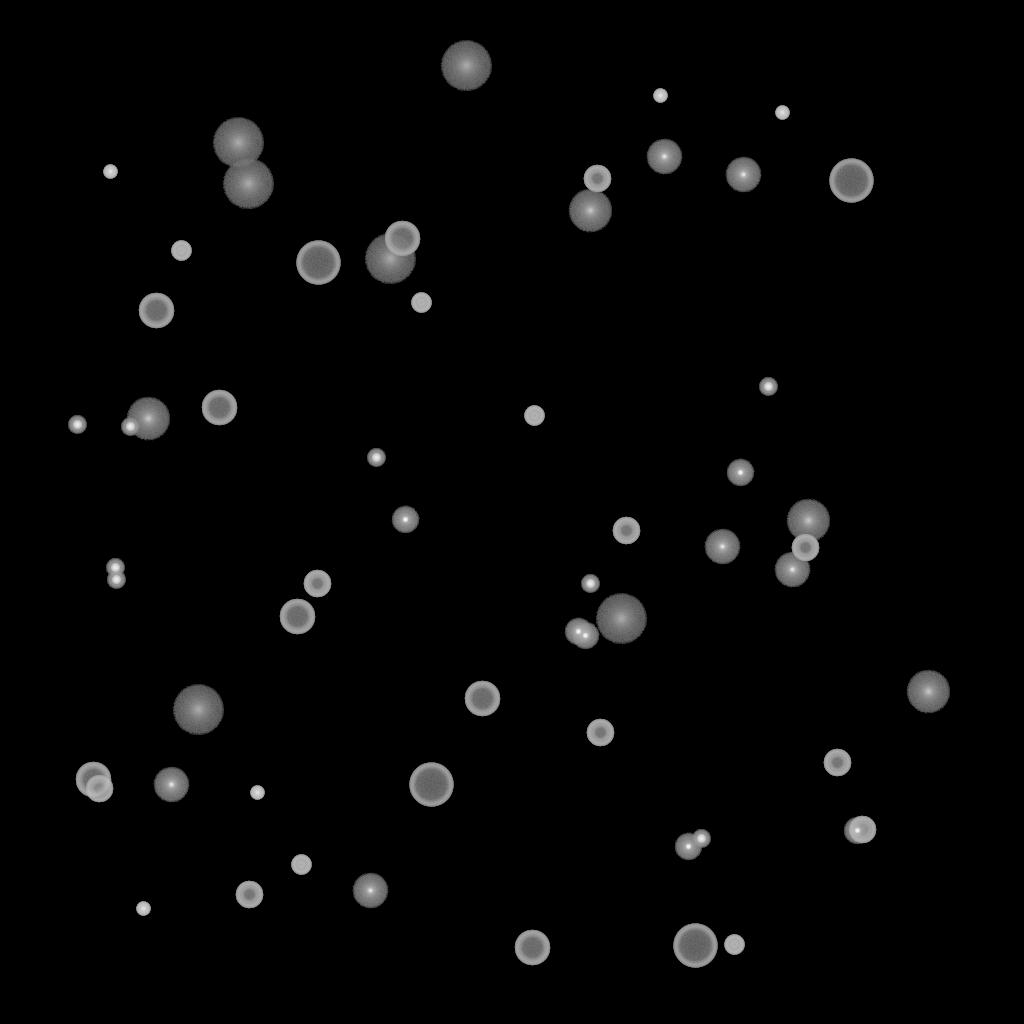depth:-10: (674, 833, 702, 861), (571, 622, 599, 650), (564, 618, 592, 646), (843, 817, 871, 845), (391, 506, 419, 534), (726, 459, 754, 487)
depth:-20: (581, 575, 599, 593), (692, 830, 710, 848), (107, 571, 125, 589), (68, 416, 86, 434), (759, 378, 777, 396), (106, 559, 124, 577), (121, 418, 139, 436), (367, 449, 385, 467)
depth:-30: (775, 106, 789, 120), (250, 786, 264, 800), (136, 902, 150, 916), (103, 165, 117, 179), (653, 89, 667, 103)
depth:-40: (291, 855, 311, 875), (524, 406, 544, 426), (411, 293, 431, 313), (171, 241, 191, 261), (724, 935, 744, 955)
depth:-50: (612, 517, 640, 545), (583, 165, 611, 193), (823, 749, 851, 777), (848, 816, 876, 844), (791, 534, 819, 562), (235, 881, 263, 909), (85, 775, 113, 803), (586, 719, 614, 747), (303, 570, 331, 598)
depth:-60: (279, 599, 315, 635), (201, 390, 237, 426), (384, 221, 420, 257), (514, 930, 550, 966), (75, 762, 111, 798), (464, 681, 500, 717), (138, 293, 174, 329)
depth:-70: (673, 924, 717, 968), (829, 159, 873, 203), (409, 763, 453, 807), (296, 241, 340, 285)
depth:0: (153, 767, 189, 803), (704, 529, 740, 565), (646, 139, 682, 175), (352, 873, 388, 909), (725, 157, 761, 193), (774, 552, 810, 588)
depth:10: (786, 499, 830, 543), (568, 189, 612, 233), (906, 670, 950, 714), (126, 397, 170, 441)
depth:20: (212, 118, 264, 168), (172, 685, 224, 735), (222, 159, 274, 209), (440, 41, 492, 91), (364, 234, 416, 284), (595, 594, 647, 644)
